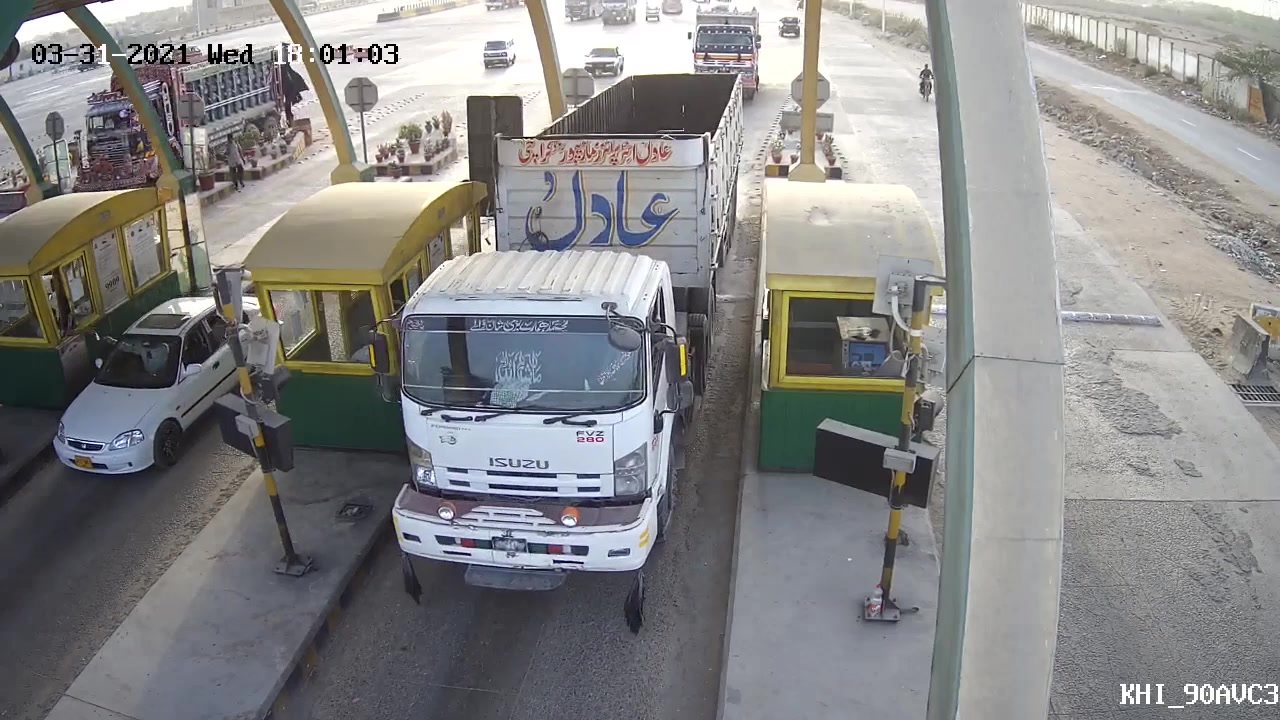F5: (361, 102, 725, 605)
